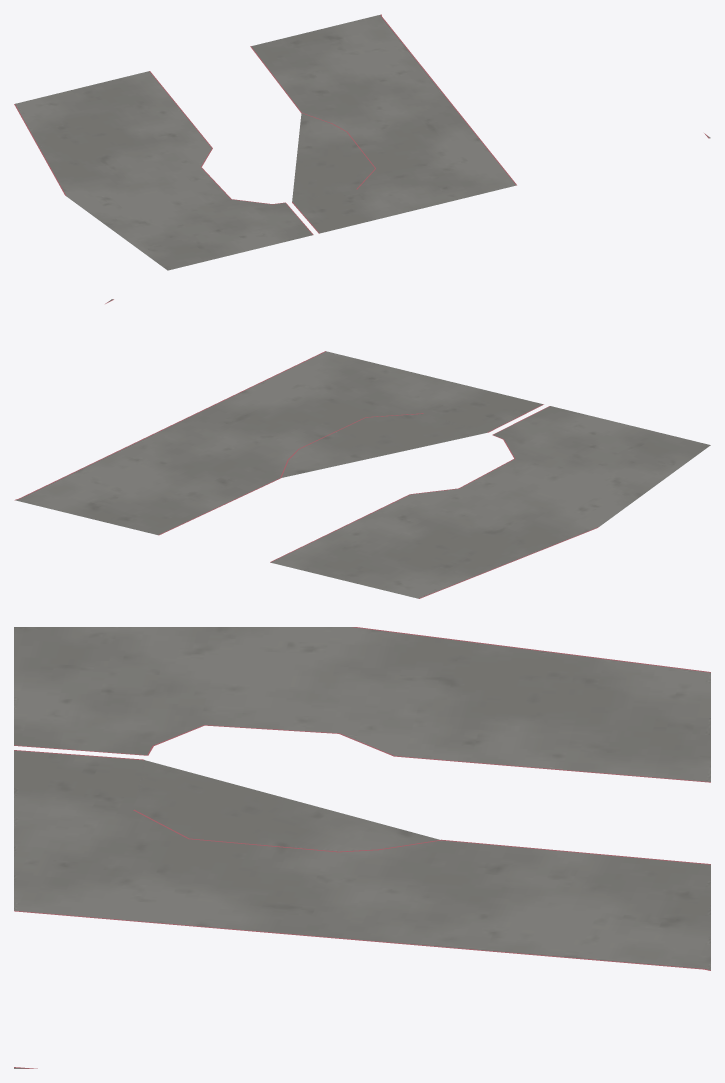
File: sbgr_patio.leve.glb
3 views of the same model, one above another, from view 1: azimuth 30°, elevation 25°; view 2: azimuth 150°, elevation 25°; view 3: azimuth 270°, elevation 25° (orthographic). The views are drawn at different scales.
Visible parts, largest first — view 1: sbgr_patio; view 2: sbgr_patio; view 3: sbgr_patio.
Boxes of the visible parts, bbox=[...] form: sbgr_patio: bbox=[14, 14, 710, 270]; sbgr_patio: bbox=[14, 299, 710, 598]; sbgr_patio: bbox=[14, 627, 710, 1068].
Bounding box in the file's own units: 300 × 0.02 × 200.
2 materials, 1 textured.
